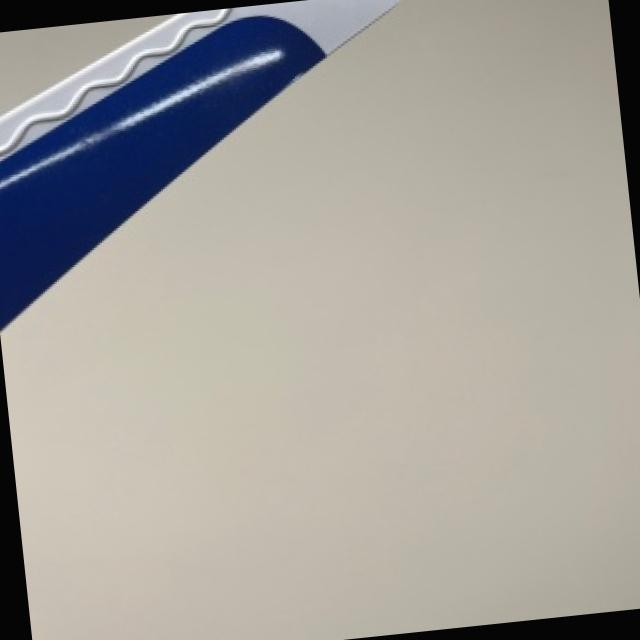healthy: (0, 0, 395, 328)
